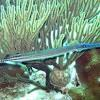Fistularia commersonii: (0, 40, 100, 65)
